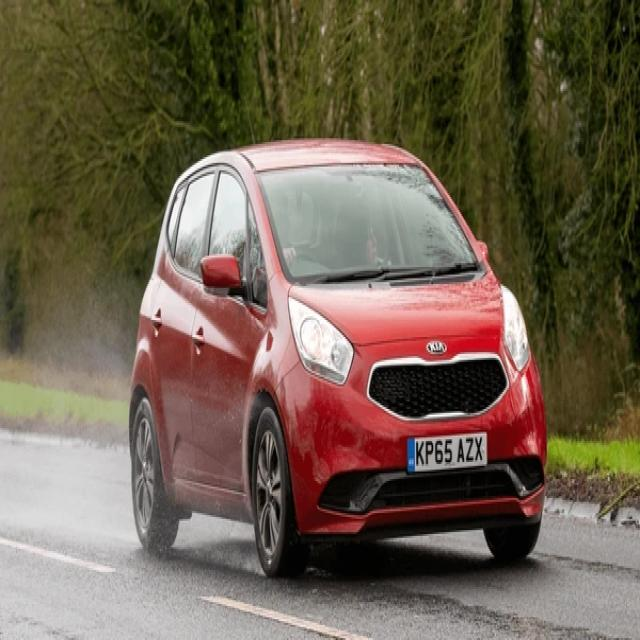kia: (421, 335, 451, 358)
